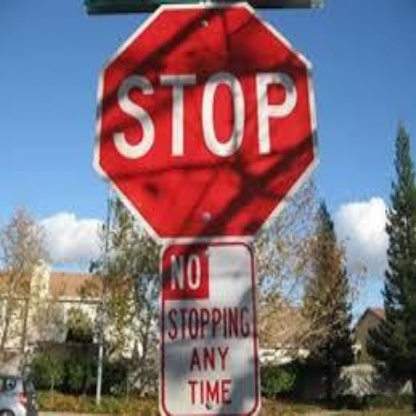stop: (94, 5, 319, 239)
